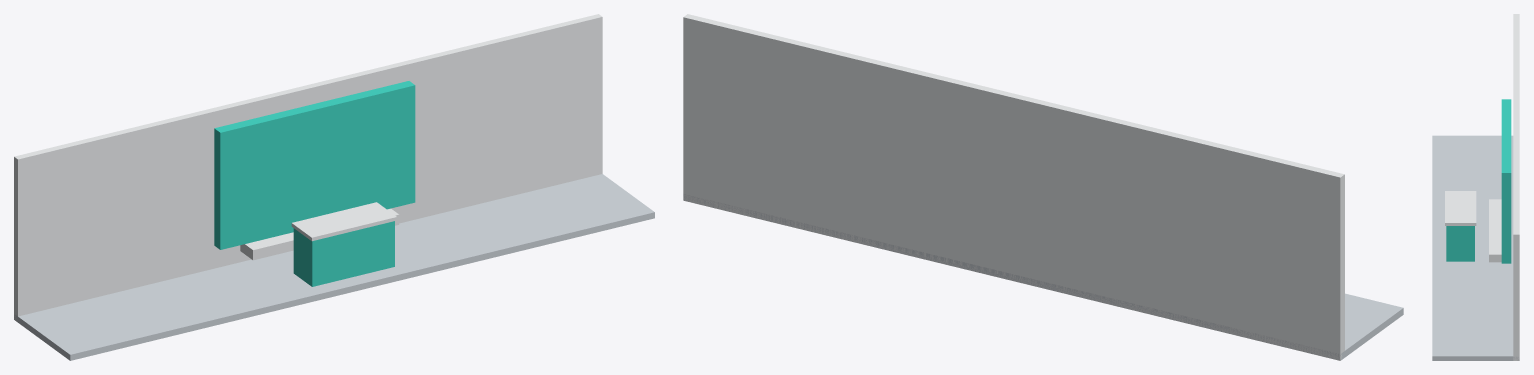
The picture shows the model from 3 angles, left to right: view 1: azimuth 30°, elevation 25°; view 2: azimuth 150°, elevation 25°; view 3: azimuth 270°, elevation 25°; orthographic projection. The views are drawn at different scales.
Visible parts, largest first — view 1: Exhibition Booth Concept; view 2: Exhibition Booth Concept; view 3: Exhibition Booth Concept.
Boxes of the visible parts, x1,y1,x2,y2 form: Exhibition Booth Concept: (14,14,654,360); Exhibition Booth Concept: (683,14,1403,360); Exhibition Booth Concept: (1432,14,1519,360).
Bounding box in the file's own units: 12 × 3.2 × 2.
